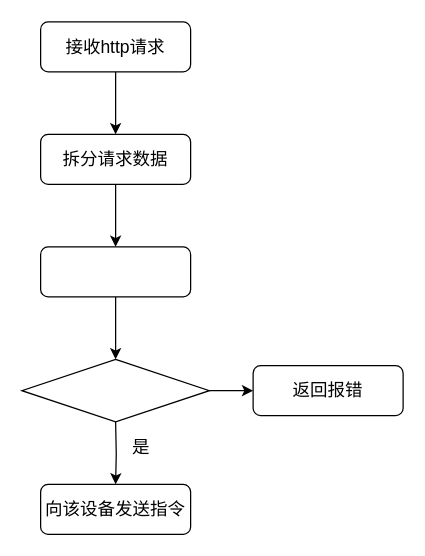
This 425x556 diagram has some shape labels left out. The centre of each missing label's shape, as x and y in pixels:
是否存在该设备: the point at 115,390
获取下发对象及指令: the point at 115,271
